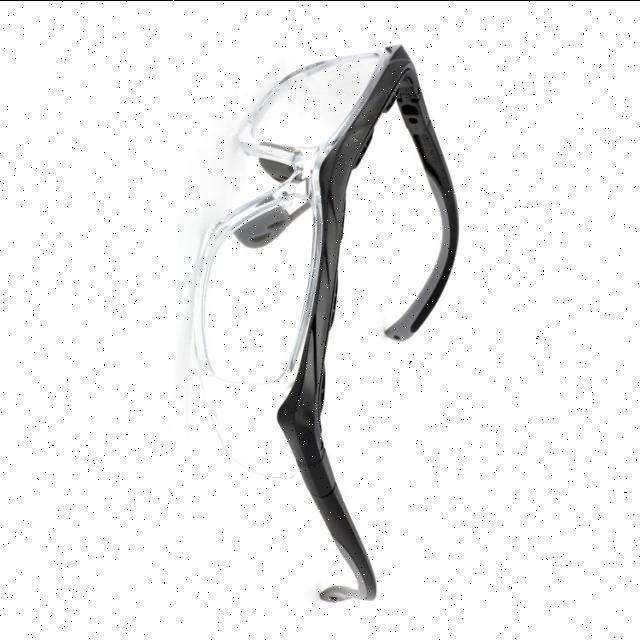Goggles: (181, 24, 458, 612)
